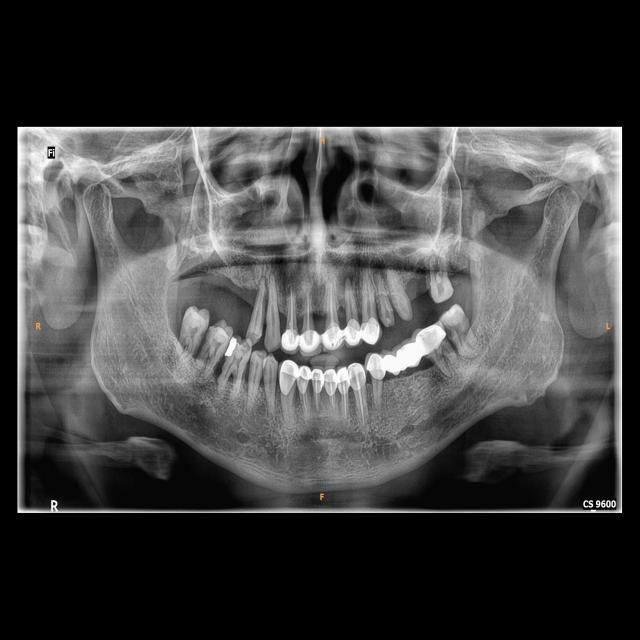dentin-curugu: (446, 323, 464, 337)
dolgu: (223, 337, 238, 358)
kanal-tedavisi: (326, 276, 337, 324), (301, 285, 312, 327), (286, 287, 296, 330)
kaplama: (416, 324, 445, 351), (275, 357, 296, 391), (323, 323, 344, 348), (347, 365, 368, 388), (298, 330, 322, 350), (361, 320, 380, 341), (368, 354, 384, 378), (345, 322, 361, 346), (297, 370, 312, 395), (310, 367, 324, 393), (337, 368, 351, 392), (323, 369, 337, 392), (282, 331, 300, 348)
